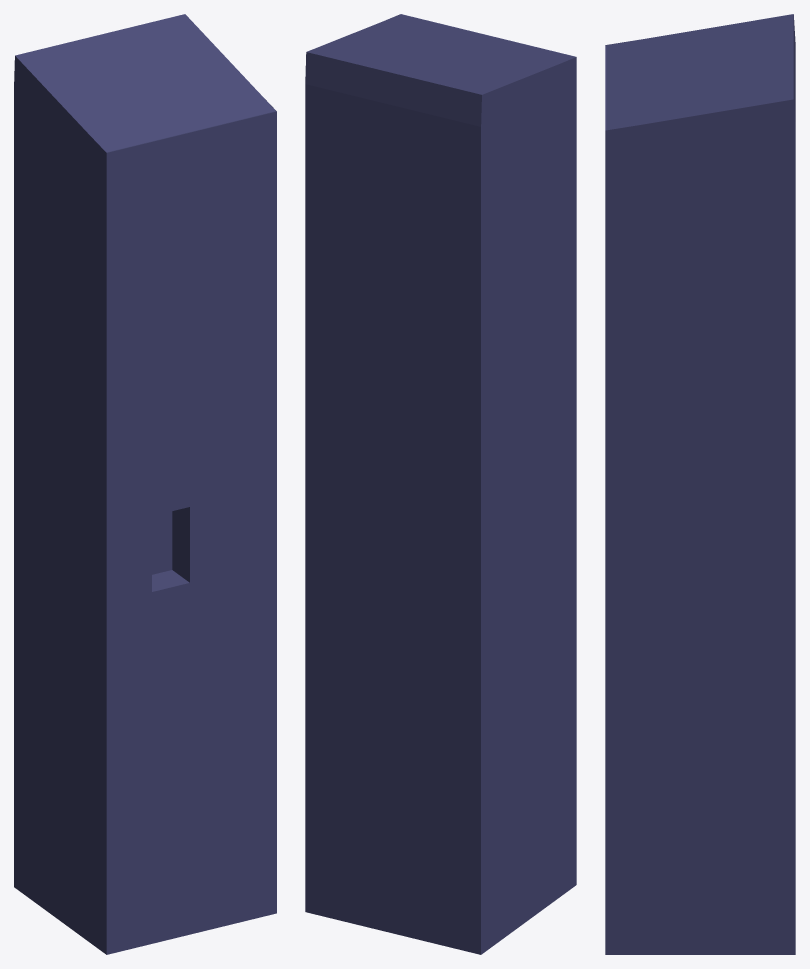
Rendered from Locker.fbx.
3 renders of one model, left to right at view 1: azimuth 30°, elevation 25°; view 2: azimuth 150°, elevation 25°; view 3: azimuth 270°, elevation 25°, orthographic. The views are drawn at different scales.
Parts seen in each view (by area): view 1: Cube; view 2: Cube; view 3: Cube.
Boxes of the visible parts, <box> form: Cube: <box>14,14,276,954</box>; Cube: <box>305,14,576,954</box>; Cube: <box>605,14,795,954</box>.
Size of the model in its own units: 94.69 by 442 by 89.21.
